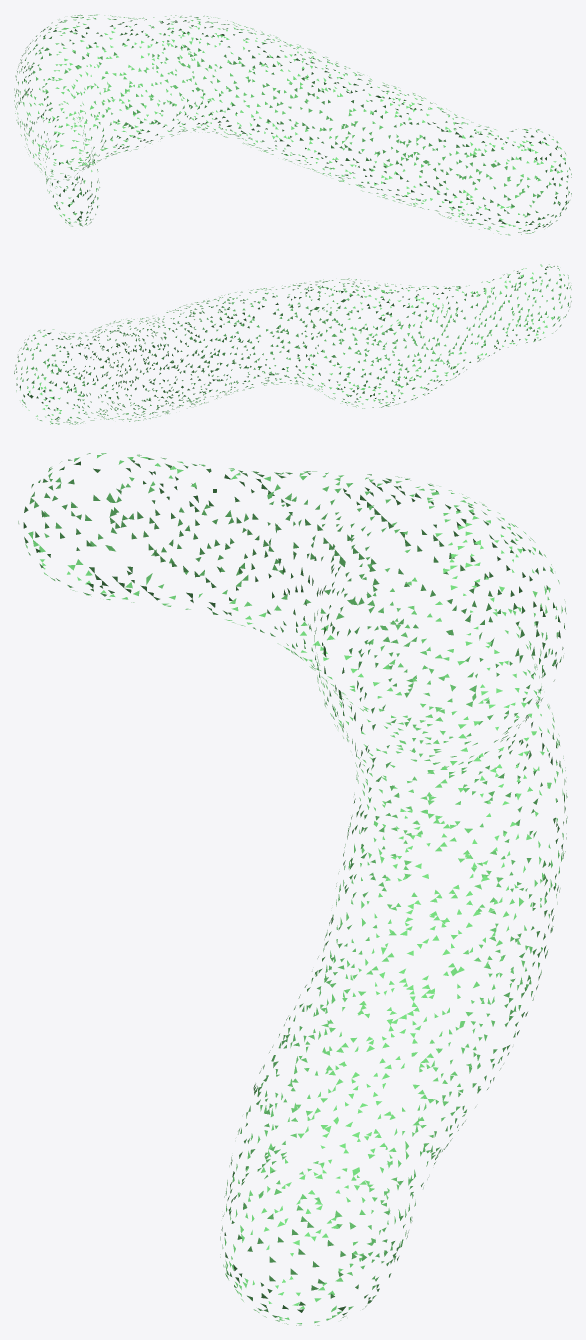
File: morph_018.glb
3 views of the same model, one above another, from view 1: azimuth 30°, elevation 25°; view 2: azimuth 150°, elevation 25°; view 3: azimuth 270°, elevation 25° (orthographic). The views are drawn at different scales.
Bounding box in the file's own units: 110 × 52.03 × 54.11.
